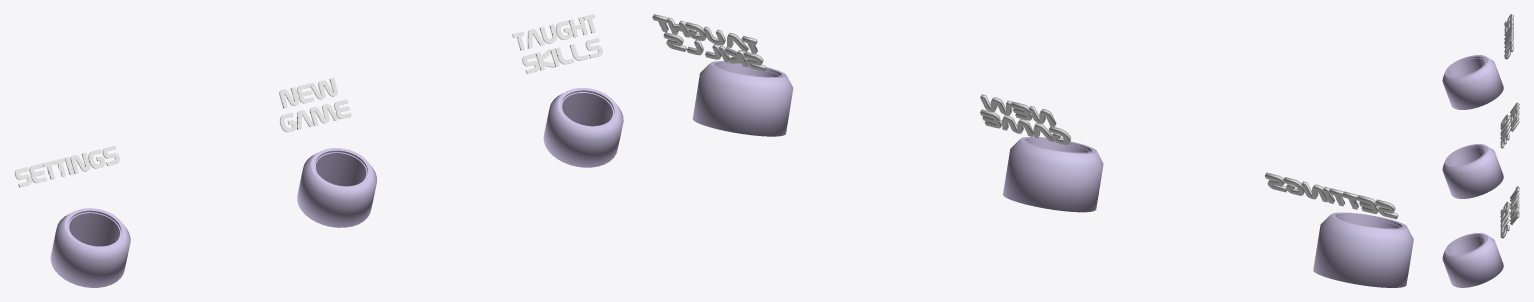
The model's file is mm-buttons-eng.fbx.
The picture shows the model from 3 angles, left to right: view 1: azimuth 30°, elevation 25°; view 2: azimuth 150°, elevation 25°; view 3: azimuth 270°, elevation 25°; orthographic projection. The views are drawn at different scales.
Parts seen in each view (by area): view 1: Button 1.001, Button 1.002, Button 1.003, Taught Skills, New Game, Settings; view 2: Button 1.001, Button 1.003, Button 1.002, Taught Skills, New Game, Settings; view 3: Button 1.003, Button 1.001, Button 1.002, Taught Skills, New Game, Settings.
Boxes of the visible parts, box(x1,y1,x2,y2) form: Button 1.001: box(50, 208, 130, 287); Button 1.002: box(543, 88, 623, 167); Button 1.003: box(297, 148, 376, 227); Taught Skills: box(511, 14, 602, 73); New Game: box(279, 78, 351, 132); Settings: box(14, 145, 119, 187); Button 1.001: box(1313, 212, 1413, 287); Button 1.003: box(1003, 136, 1103, 212); Button 1.002: box(692, 61, 793, 136); Taught Skills: box(652, 14, 766, 71); New Game: box(980, 94, 1070, 144); Settings: box(1265, 172, 1398, 219); Button 1.003: box(1442, 144, 1503, 198); Button 1.001: box(1442, 55, 1503, 109); Button 1.002: box(1442, 233, 1503, 287); Taught Skills: box(1500, 186, 1519, 238); New Game: box(1500, 102, 1519, 148); Settings: box(1504, 14, 1513, 59).
Bounding box in the file's own units: 580 × 104 × 89.87.
